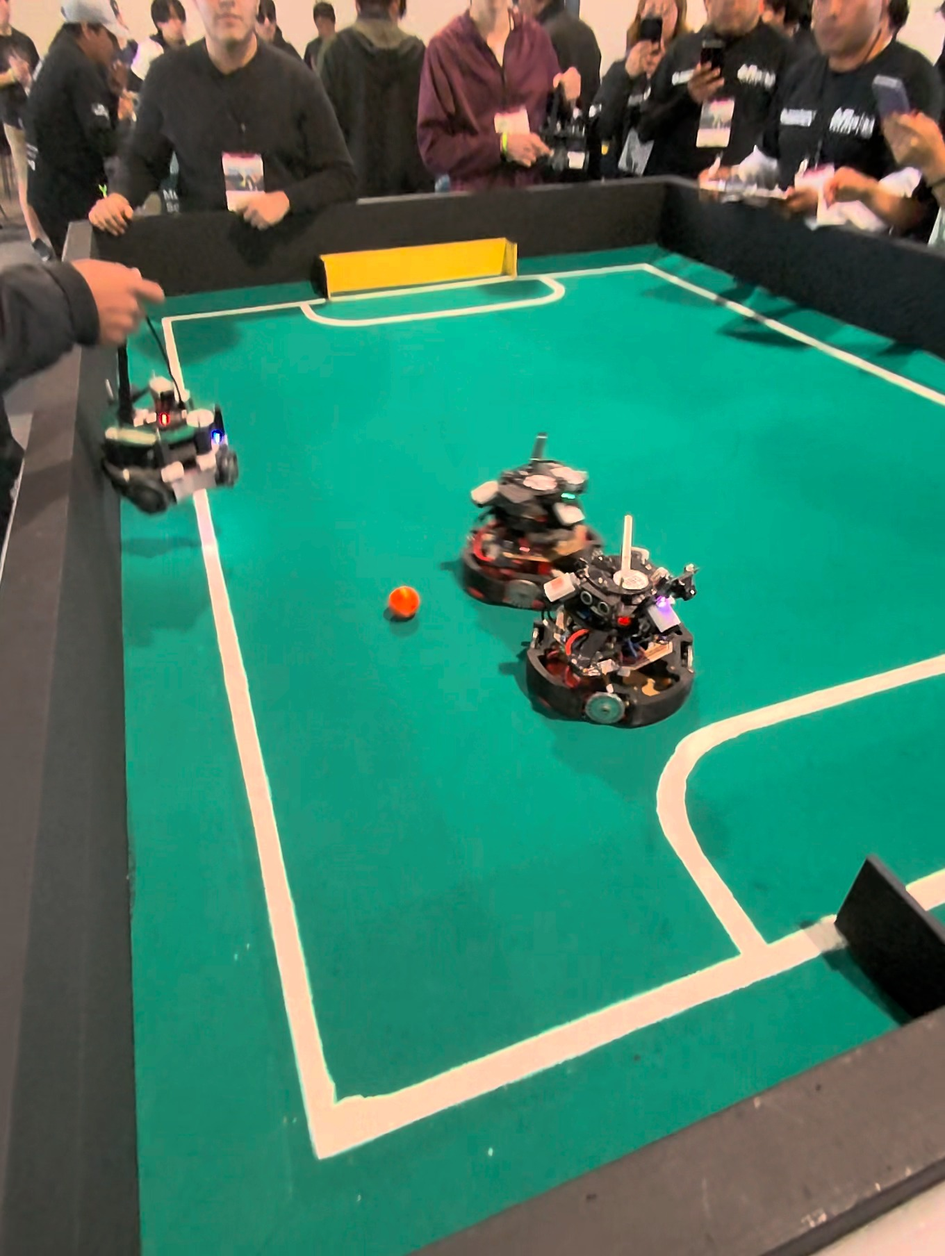Robot: (523, 518, 699, 735), (95, 349, 235, 532), (464, 443, 603, 601)
pelota: (389, 582, 424, 619)
